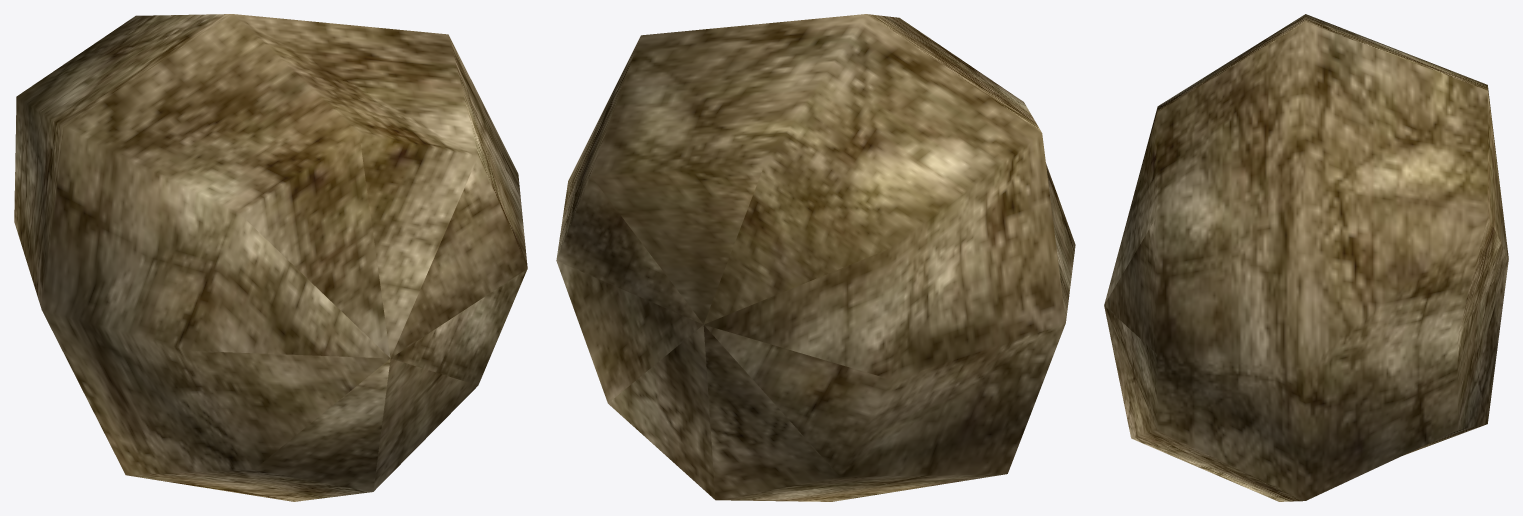
The model's file is woositone.glb.
The picture shows the model from 3 angles, left to right: view 1: azimuth 30°, elevation 25°; view 2: azimuth 150°, elevation 25°; view 3: azimuth 270°, elevation 25°; orthographic projection. The views are drawn at different scales.
Parts seen in each view (by area): view 1: model_woositone; view 2: model_woositone; view 3: model_woositone.
Boxes of the visible parts, x1,y1,x2,y2 form: model_woositone: (14, 14, 527, 501); model_woositone: (556, 14, 1075, 501); model_woositone: (1104, 14, 1508, 501).
Size of the model in its own units: 0.7529 by 0.7384 by 0.5916.
1 material, 1 textured.
